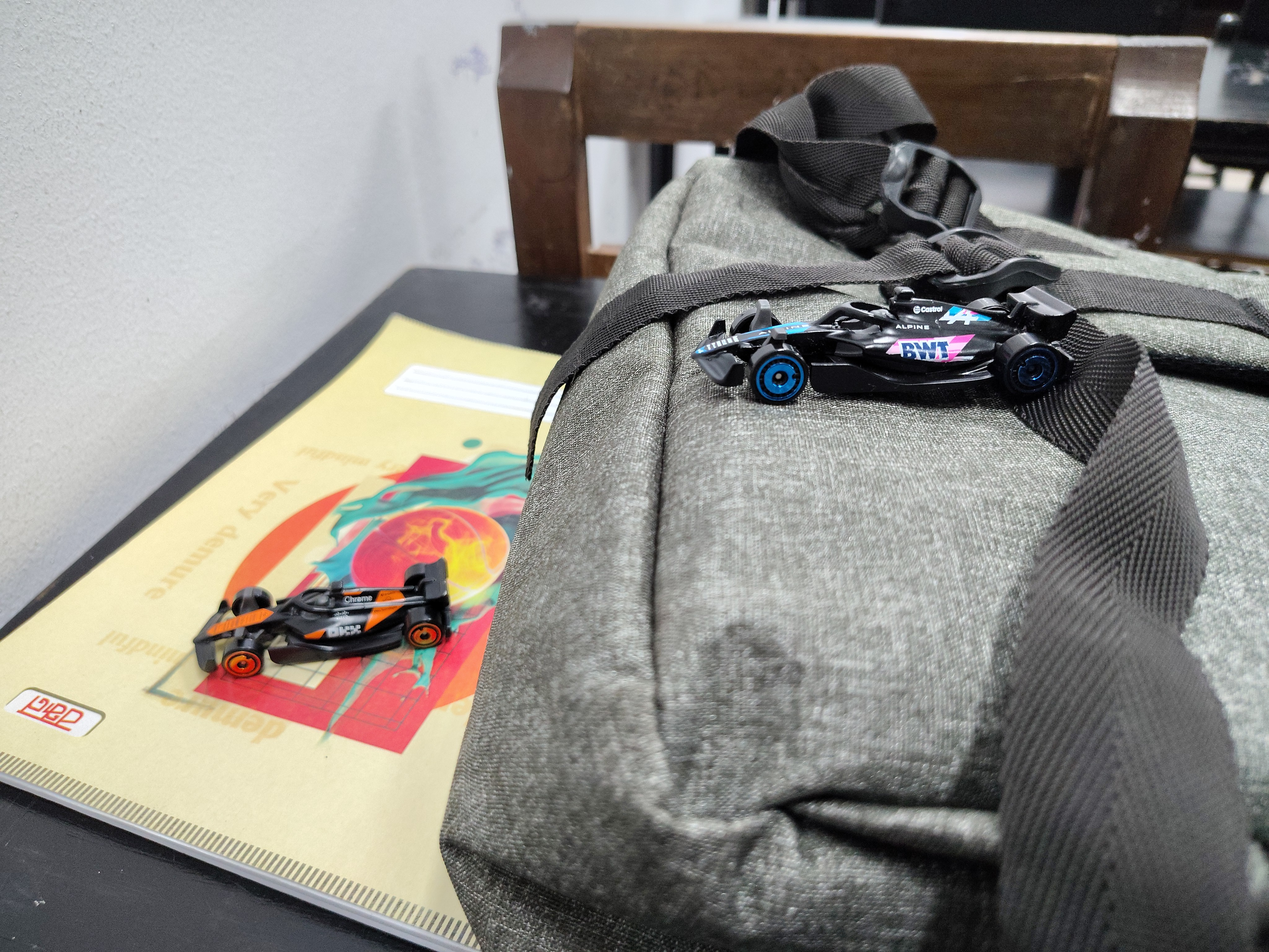Alpine A524: (646, 273, 1122, 411)
McLaren MCL40: (152, 538, 500, 699)
